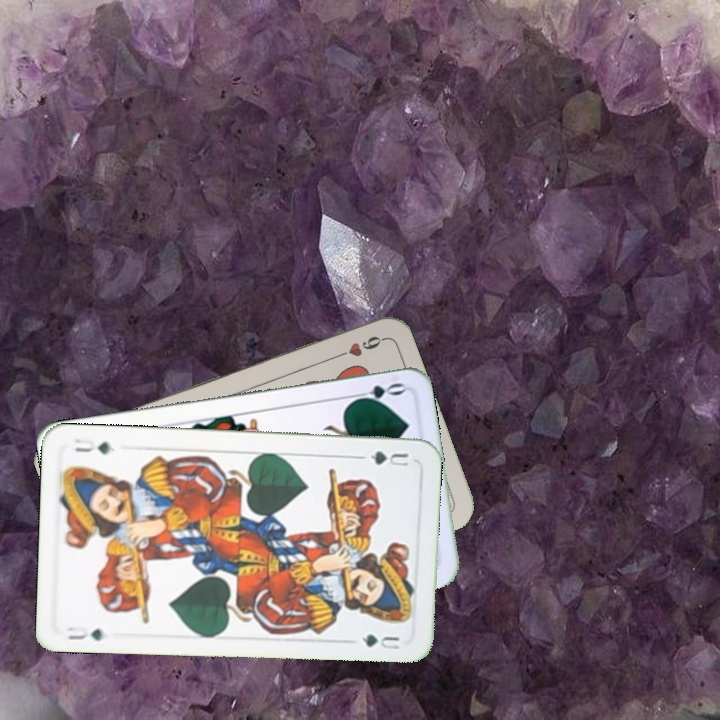GO: (347, 378, 407, 406)
GU: (366, 447, 411, 469), (62, 622, 106, 644)
H9: (330, 331, 387, 362)
